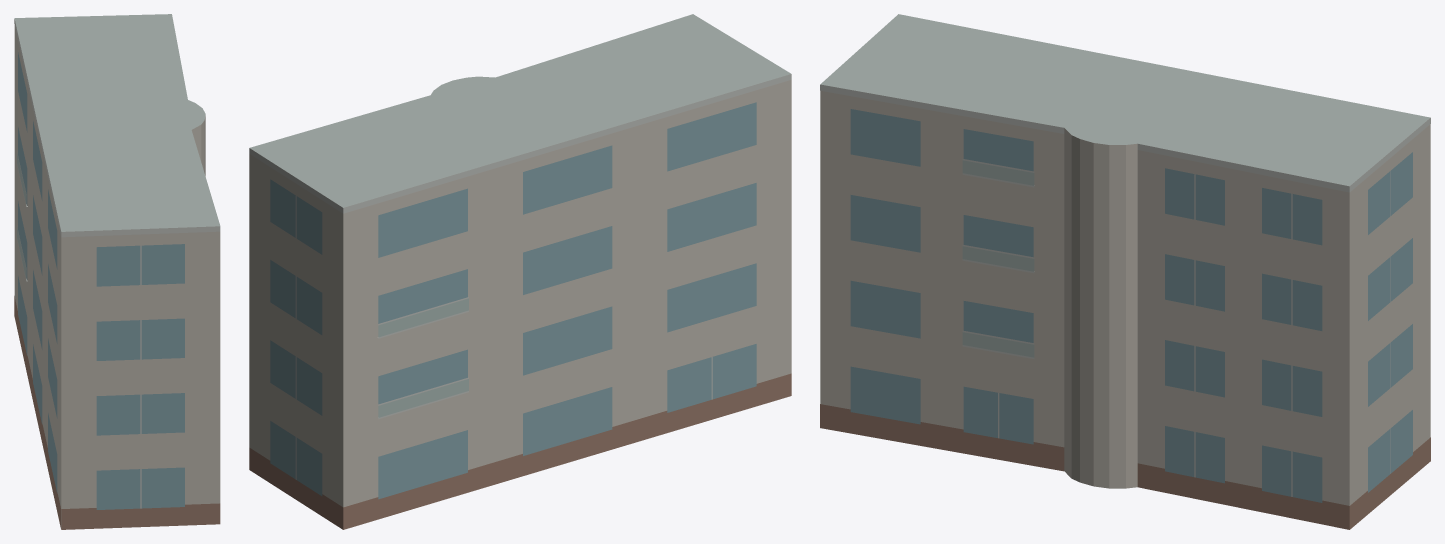
The model's file is survey-upis-32727849.glb.
3 views of the same model, side by side, from view 1: azimuth 30°, elevation 25°; view 2: azimuth 150°, elevation 25°; view 3: azimuth 270°, elevation 25° (orthographic). The views are drawn at different scales.
Visible parts, largest first — view 1: survey-upis-32727849.tmp; view 2: survey-upis-32727849.tmp; view 3: survey-upis-32727849.tmp.
Boxes of the visible parts, x1,y1,x2,y2 form: survey-upis-32727849.tmp: (14,14,220,529); survey-upis-32727849.tmp: (249,14,791,529); survey-upis-32727849.tmp: (820,14,1430,529).
Bounding box in the file's own units: 14.53 × 13.5 × 21.76.
